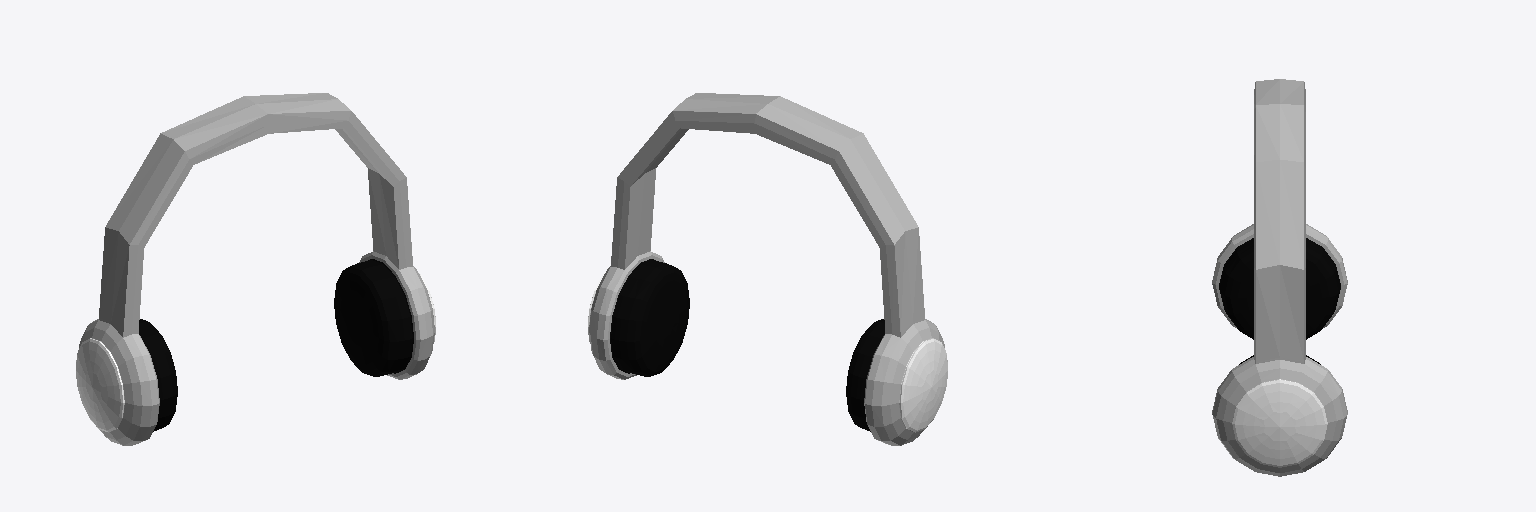
File: headphone.obj
The picture shows the model from 3 angles: view 1: azimuth 30°, elevation 25°; view 2: azimuth 150°, elevation 25°; view 3: azimuth 270°, elevation 25°; orthographic projection.
Visible parts, largest first — view 1: polySurface3; view 2: polySurface3; view 3: polySurface3.
Boxes of the visible parts, box(x1,y1,x2,y2) form: polySurface3: box(76, 93, 435, 445); polySurface3: box(588, 93, 947, 445); polySurface3: box(1212, 79, 1347, 476).
Bounding box in the file's own units: 4 × 3.55 × 1.43.